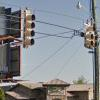Traffic light: (11, 2, 56, 55)
